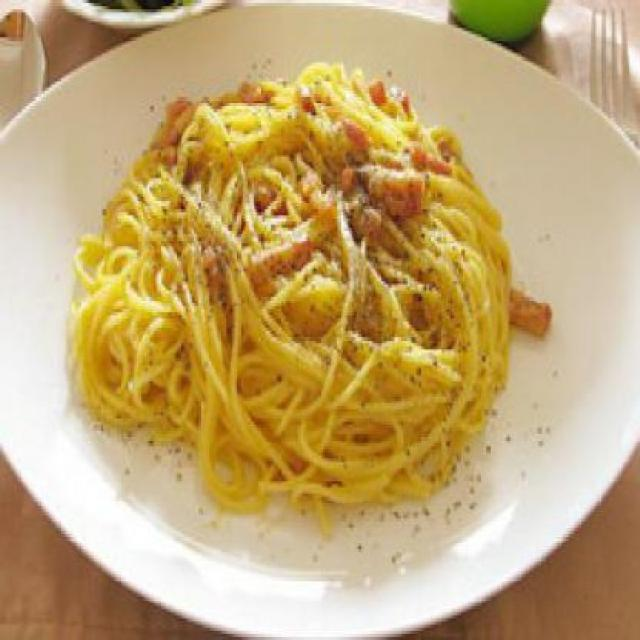Pasta with carbonara sauce: (55, 47, 568, 556)
